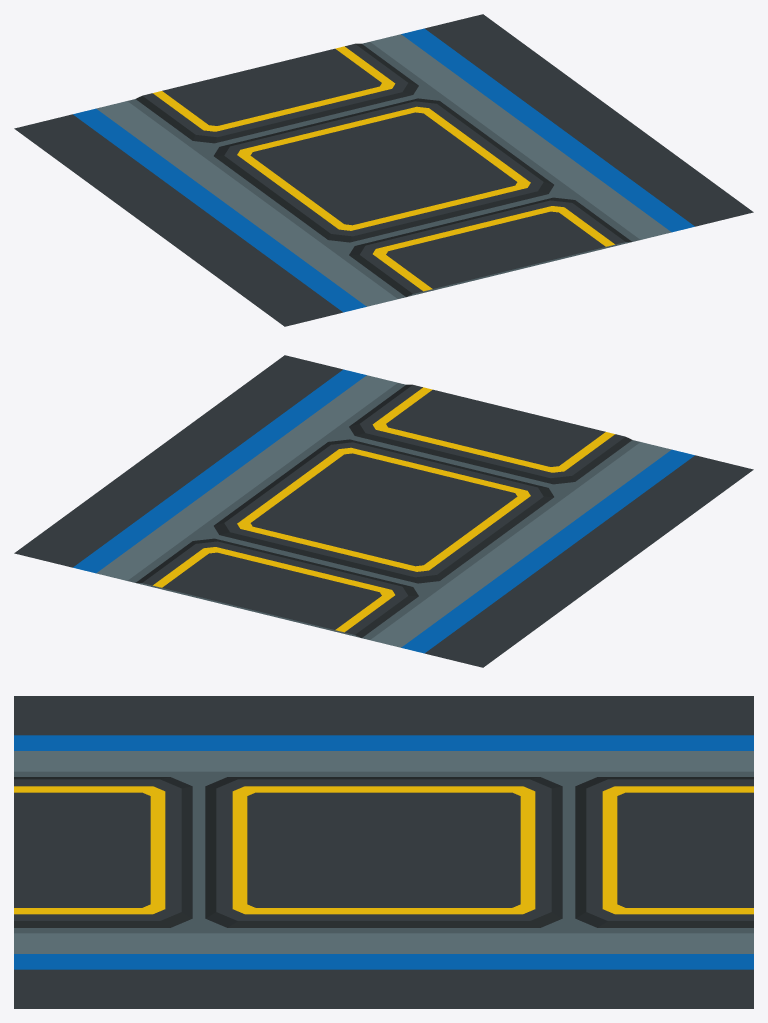
Rendered from Floor_type_C_032.002.fbx.
3 views of the same model, one above another, from view 1: azimuth 30°, elevation 25°; view 2: azimuth 150°, elevation 25°; view 3: azimuth 270°, elevation 25° (orthographic). The views are drawn at different scales.
Parts seen in each view (by area): view 1: Floor_type_C_032.002; view 2: Floor_type_C_032.002; view 3: Floor_type_C_032.002.
Part boxes in pixels (left/top/right/bottom): Floor_type_C_032.002: left=14, top=14, right=753, bottom=326; Floor_type_C_032.002: left=14, top=355, right=753, bottom=667; Floor_type_C_032.002: left=14, top=696, right=753, bottom=1008.
Size of the model in its own units: 400 by 400 by 1.34.
